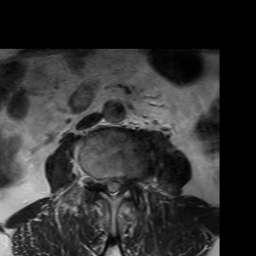CCS_normal: (109, 170, 116, 204)
LFS_severe_stenosis: (124, 168, 132, 190)
LLS_severe_stenosis: (116, 171, 124, 197)
RFS_stenosis: (95, 170, 103, 190)
RLS_normal: (103, 171, 109, 195)
